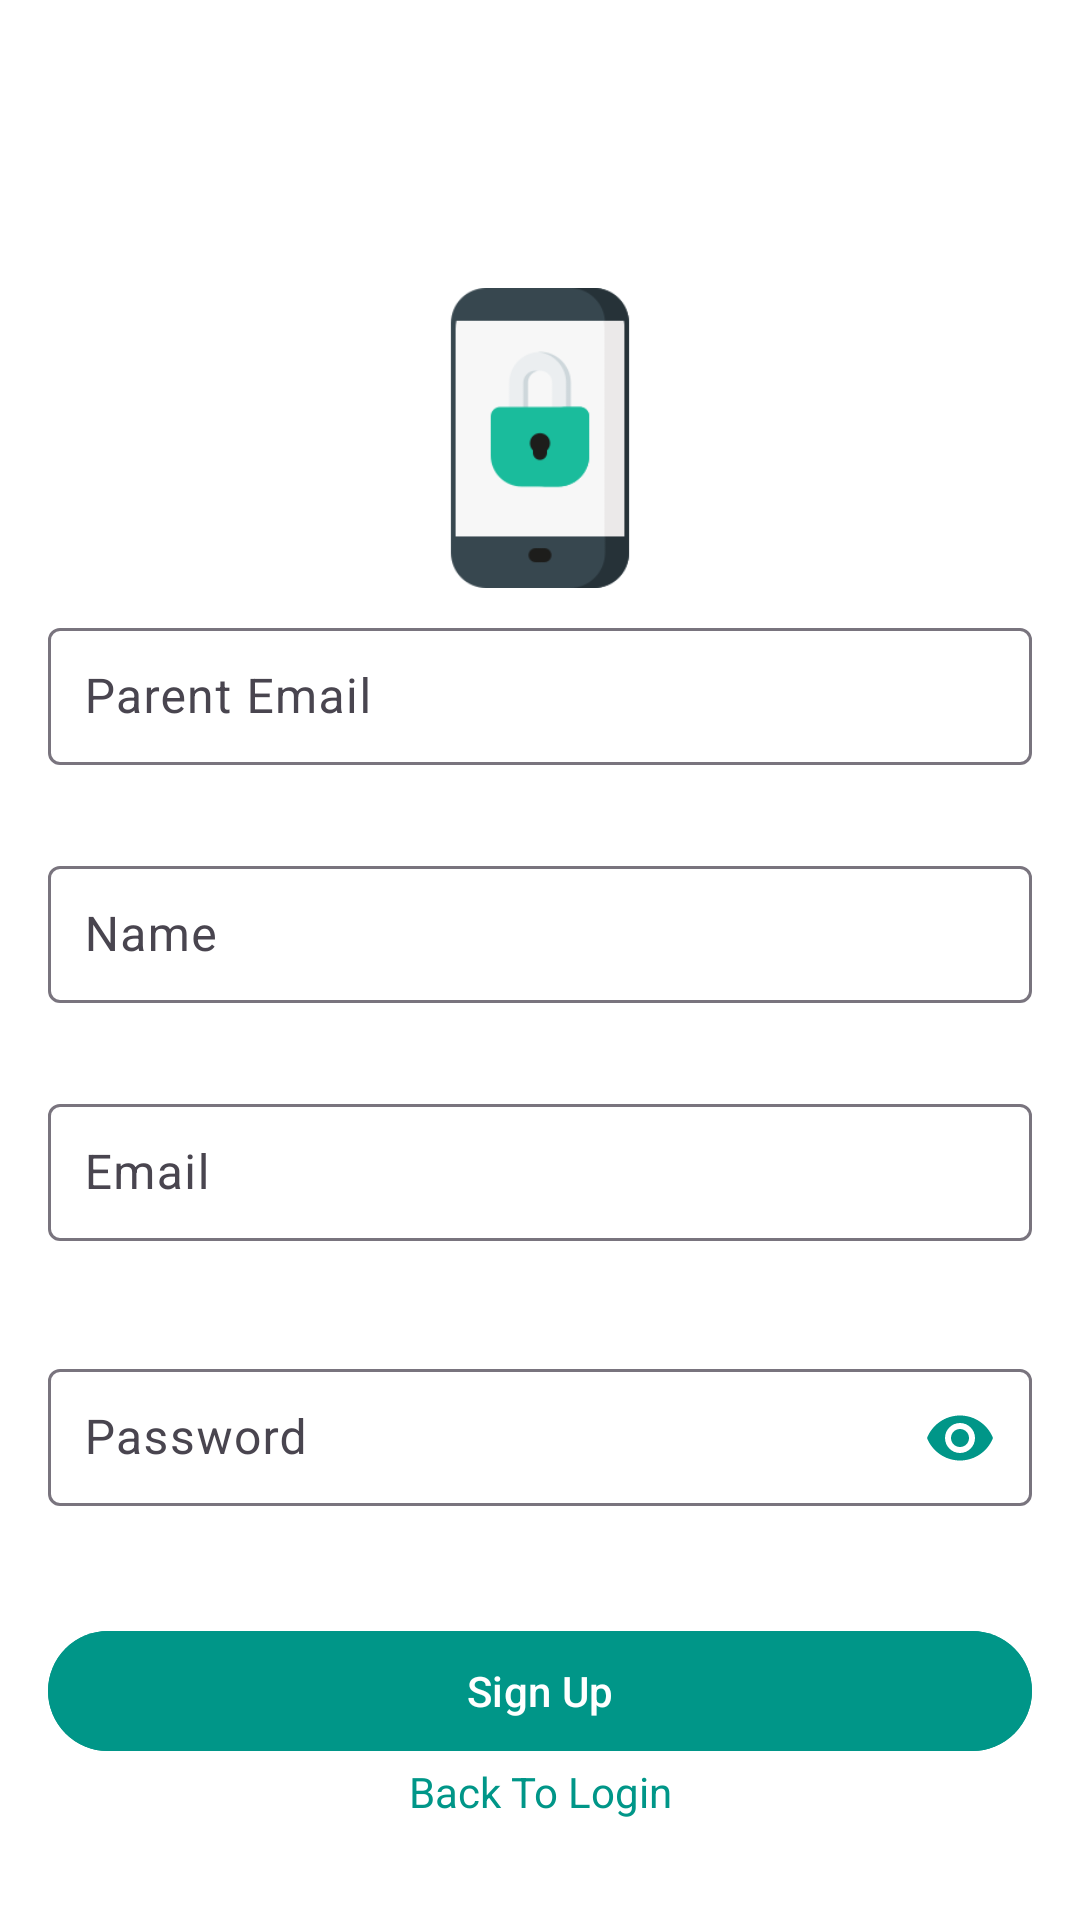

Icons on this 1080px×1920px Android screen, each with its box as (x1, y1, x2, y2):
screenlock: (450, 288, 630, 588)
